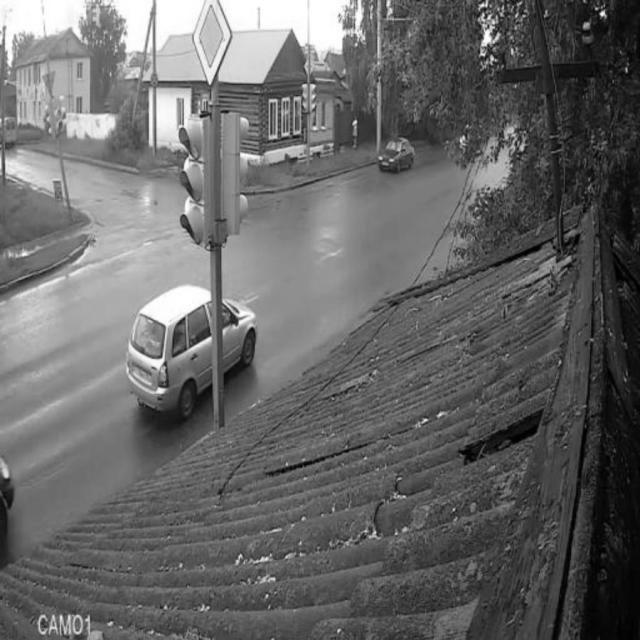vehicle: (127, 286, 258, 414), (375, 136, 417, 176)
